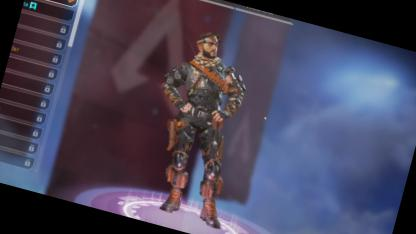Target: (142, 19, 258, 190)
